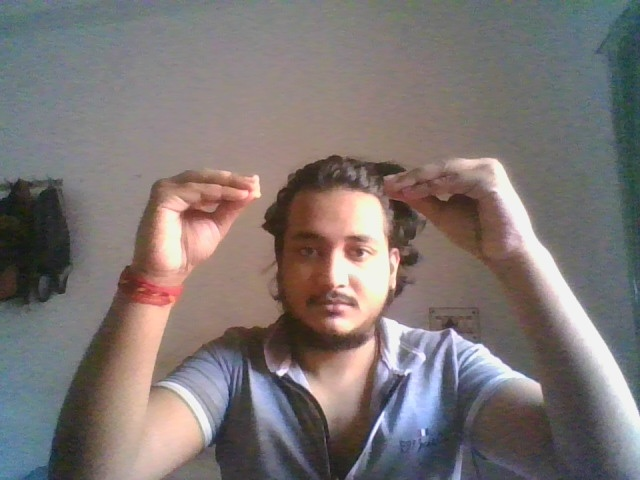Mouth: (383, 157, 525, 264), (136, 166, 262, 272)
